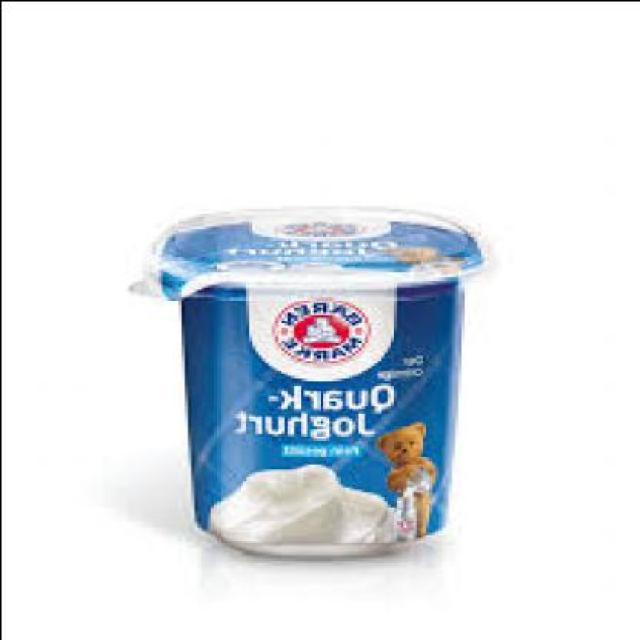PLASTIC: (132, 206, 492, 556), (132, 205, 492, 302)
